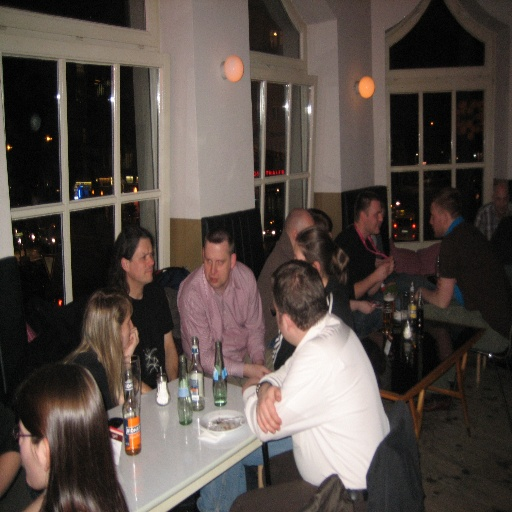hand: (256, 367, 286, 443), (123, 326, 140, 360), (249, 365, 273, 382), (376, 264, 390, 283), (358, 300, 376, 313), (383, 258, 394, 271)
